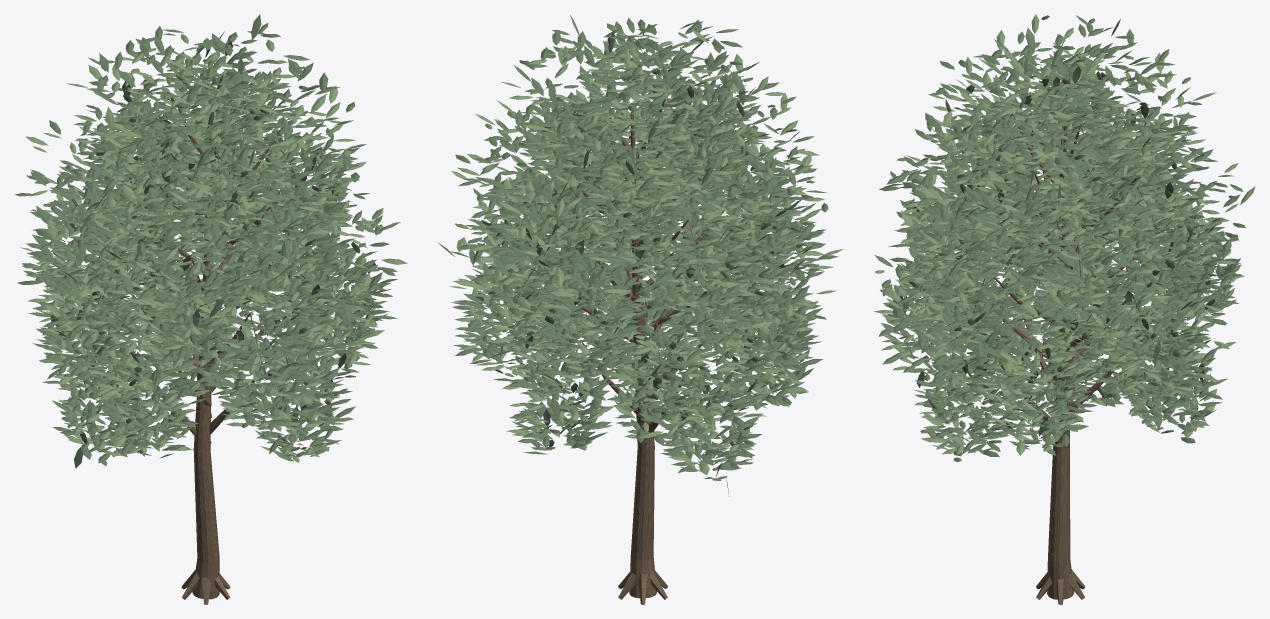
The model's file is Tree5.fbx.
The picture shows the model from 3 angles, left to right: view 1: azimuth 30°, elevation 25°; view 2: azimuth 150°, elevation 25°; view 3: azimuth 270°, elevation 25°; orthographic projection. The views are drawn at different scales.
Visible parts, largest first — view 1: Tree5_LOD0; view 2: Tree5_LOD0; view 3: Tree5_LOD0.
Part boxes in pixels (left/top/right/bottom): Tree5_LOD0: left=14, top=14, right=407, bottom=604; Tree5_LOD0: left=437, top=15, right=843, bottom=604; Tree5_LOD0: left=874, top=14, right=1255, bottom=604.
Size of what is drawn, in the model's own units: 507 by 774 by 478.
Materials: 1 (1 with a texture image).
